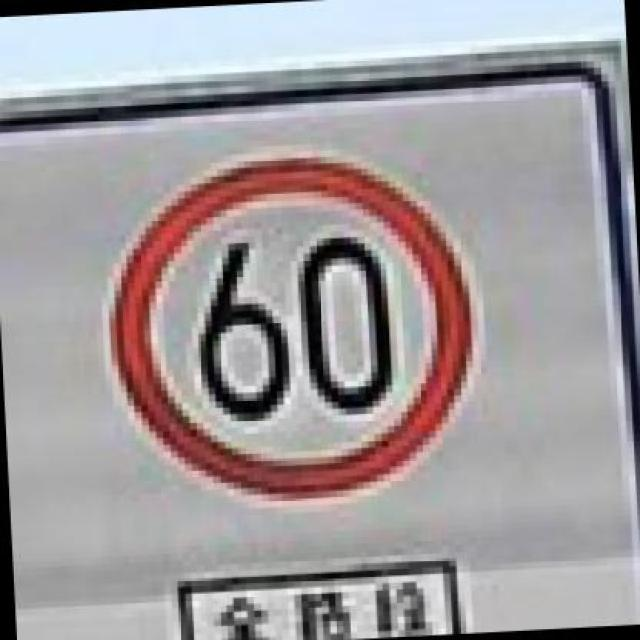Limite-60: (107, 148, 481, 509)
